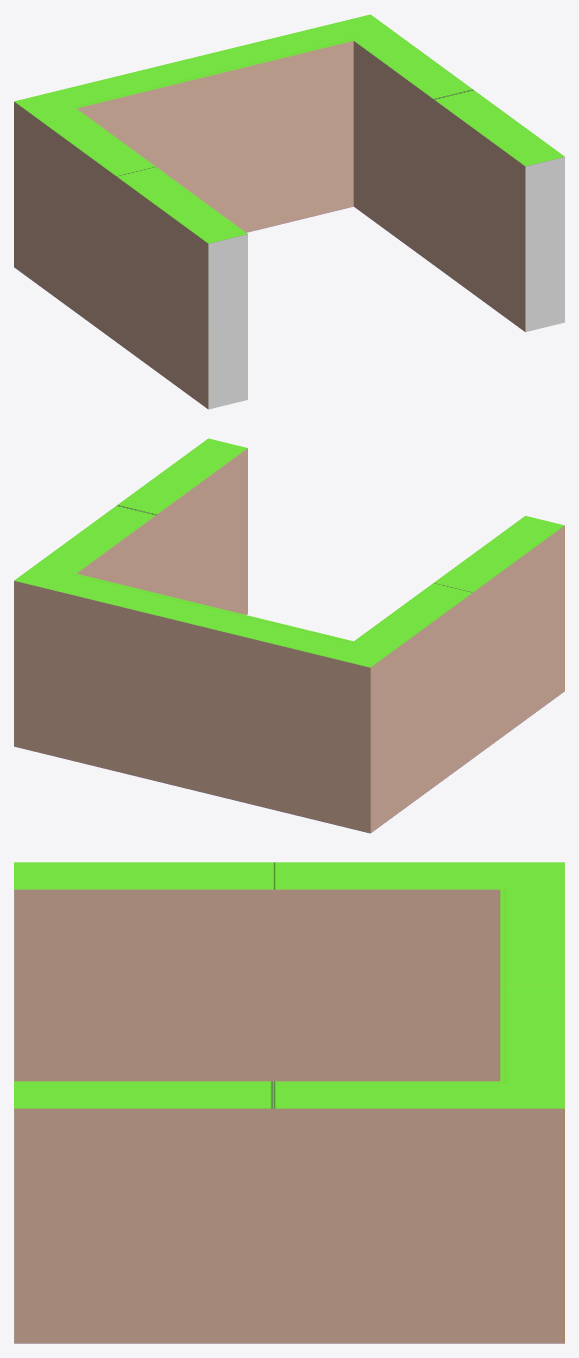
The model's file is MK_MK_Wall_DeadEnd_Half_B.fbx.
3 renders of one model, top to bottom at view 1: azimuth 30°, elevation 25°; view 2: azimuth 150°, elevation 25°; view 3: azimuth 270°, elevation 25°, orthographic. The views are drawn at different scales.
Parts seen in each view (by area): view 1: MK_Wall_DeadEnd_Half_B; view 2: MK_Wall_DeadEnd_Half_B; view 3: MK_Wall_DeadEnd_Half_B.
Boxes of the visible parts, x1,y1,x2,y2 form: MK_Wall_DeadEnd_Half_B: (14,14,564,409); MK_Wall_DeadEnd_Half_B: (14,438,564,833); MK_Wall_DeadEnd_Half_B: (14,862,564,1343).
Bounding box in the file's own units: 202 × 90 × 191.
Materials: 1 (1 with a texture image).
